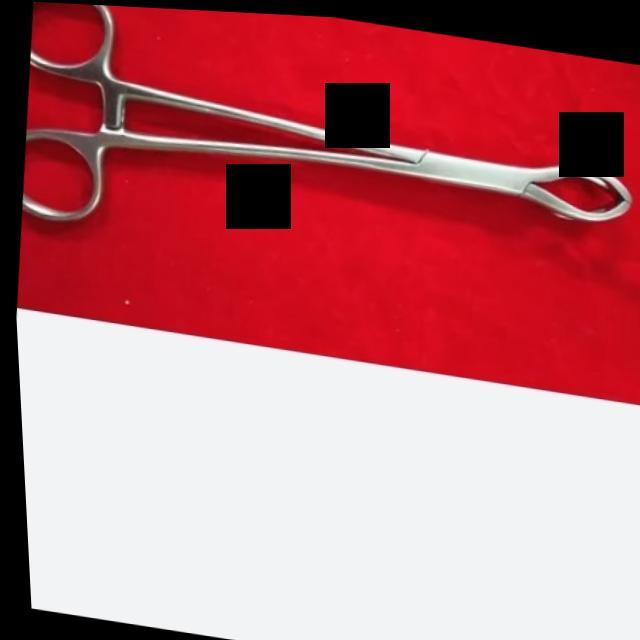Babcock Forceps: (9, 0, 640, 305)
